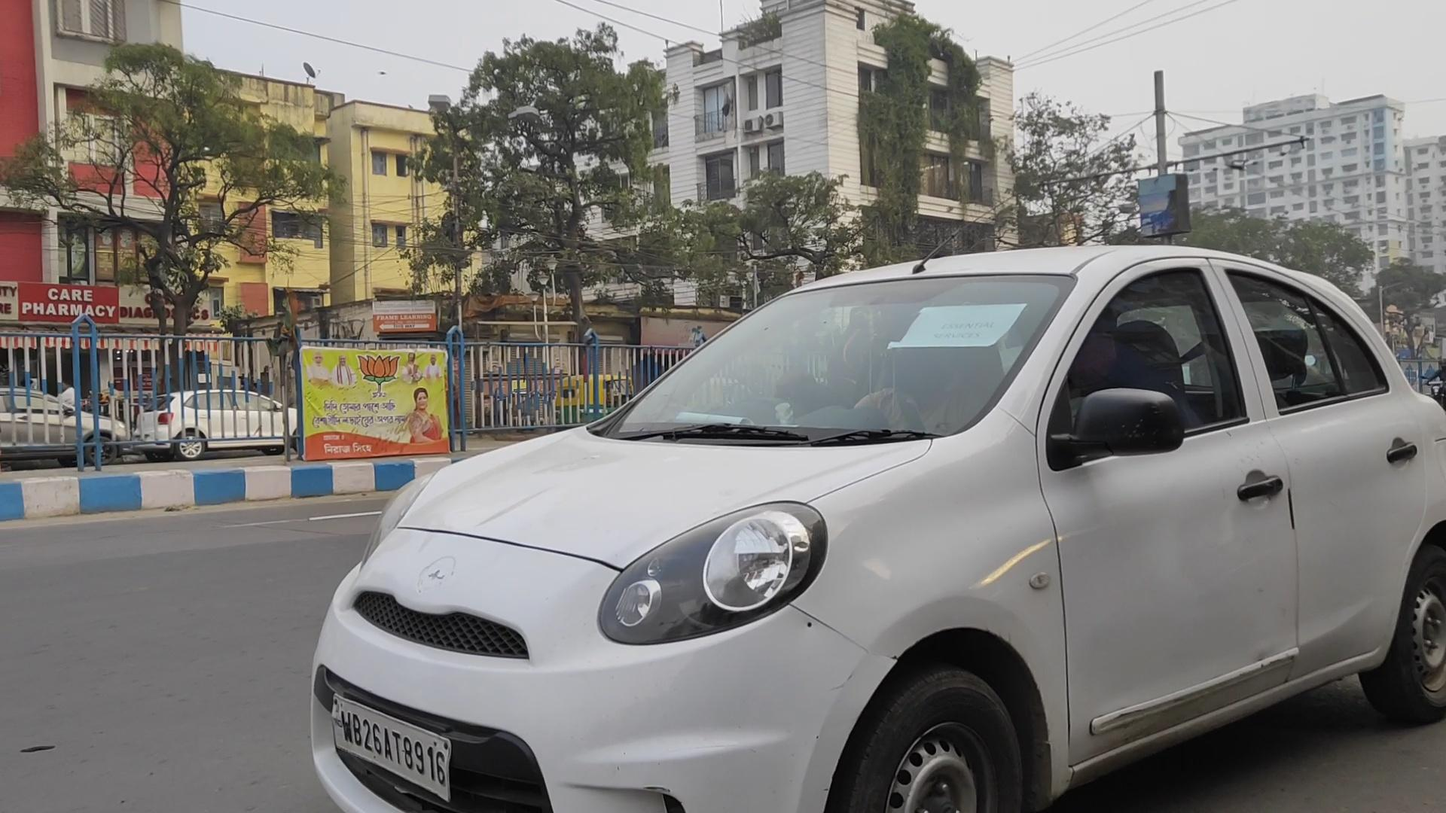car: (307, 245, 1446, 813)
